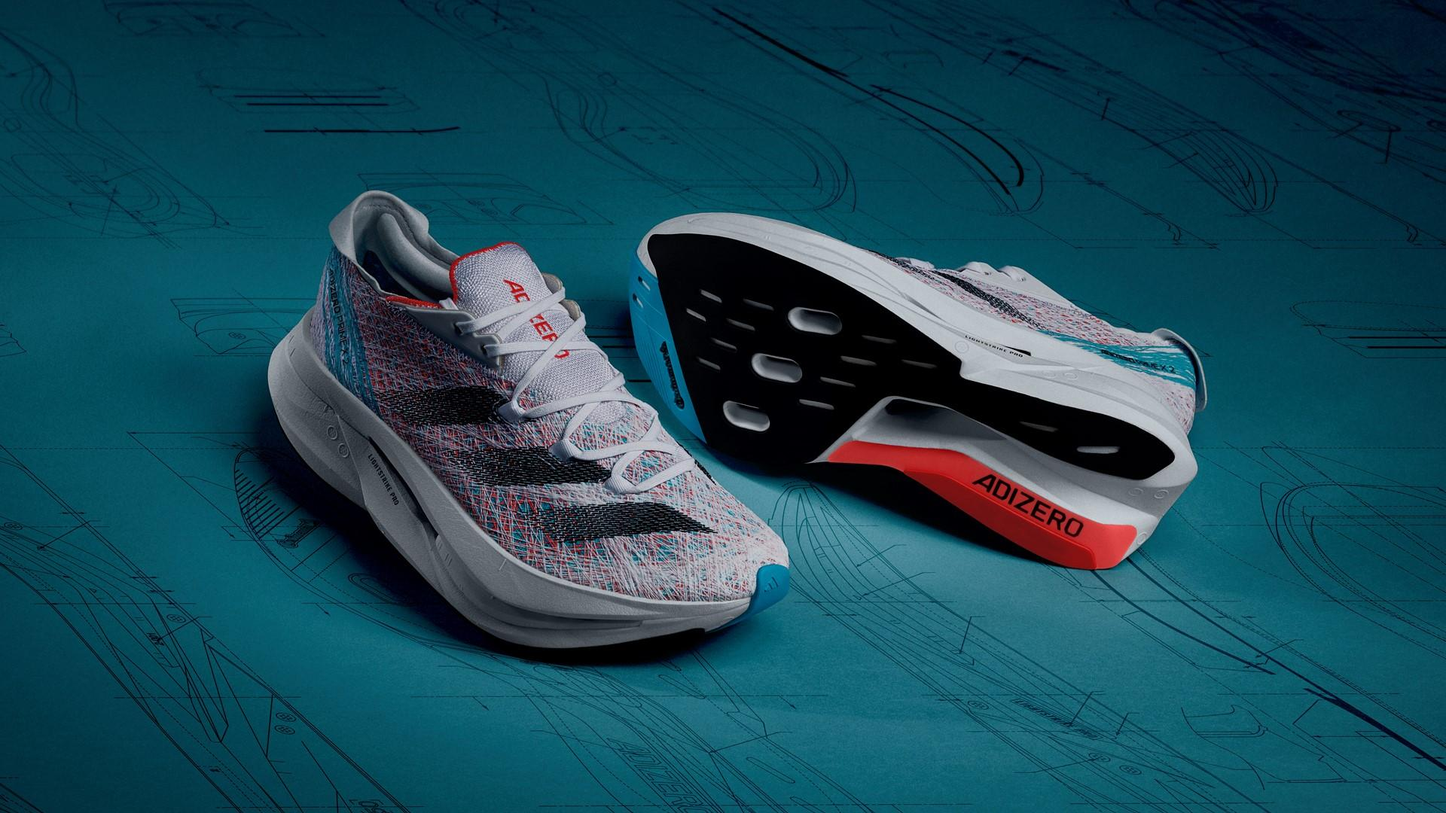adidas logo: (351, 368, 727, 566)
